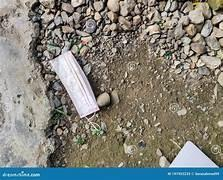Mask: (50, 51, 98, 117)
